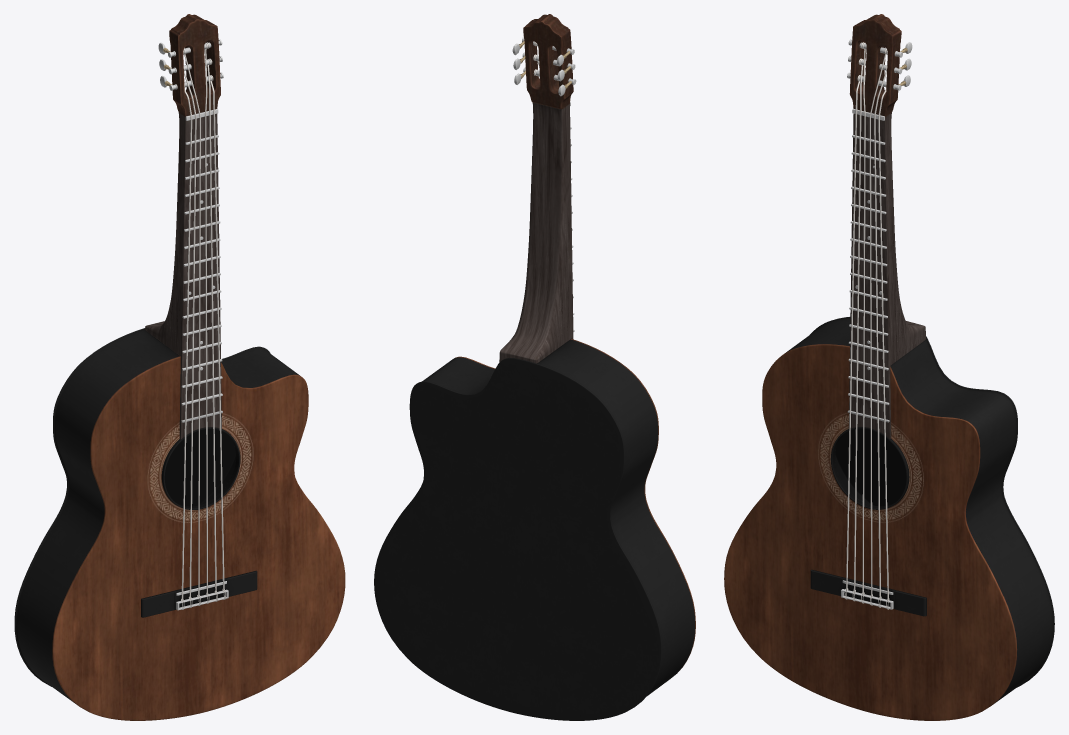
File: acoustic_guitar.glb
3 views of the same model, side by side, from view 1: azimuth 30°, elevation 25°; view 2: azimuth 150°, elevation 25°; view 3: azimuth 330°, elevation 25° (orthographic). The views are drawn at different scales.
Parts seen in each view (by area): view 1: FG Acoustic Guitar.Shape; view 2: FG Acoustic Guitar.Shape; view 3: FG Acoustic Guitar.Shape.
Boxes of the visible parts, x1,y1,x2,y2 form: FG Acoustic Guitar.Shape: [14, 14, 345, 720]; FG Acoustic Guitar.Shape: [374, 14, 695, 720]; FG Acoustic Guitar.Shape: [724, 14, 1054, 720].
Size of the model in its own units: 0.5414 by 1.22 by 0.1317.
Materials: 1 (1 with a texture image).
